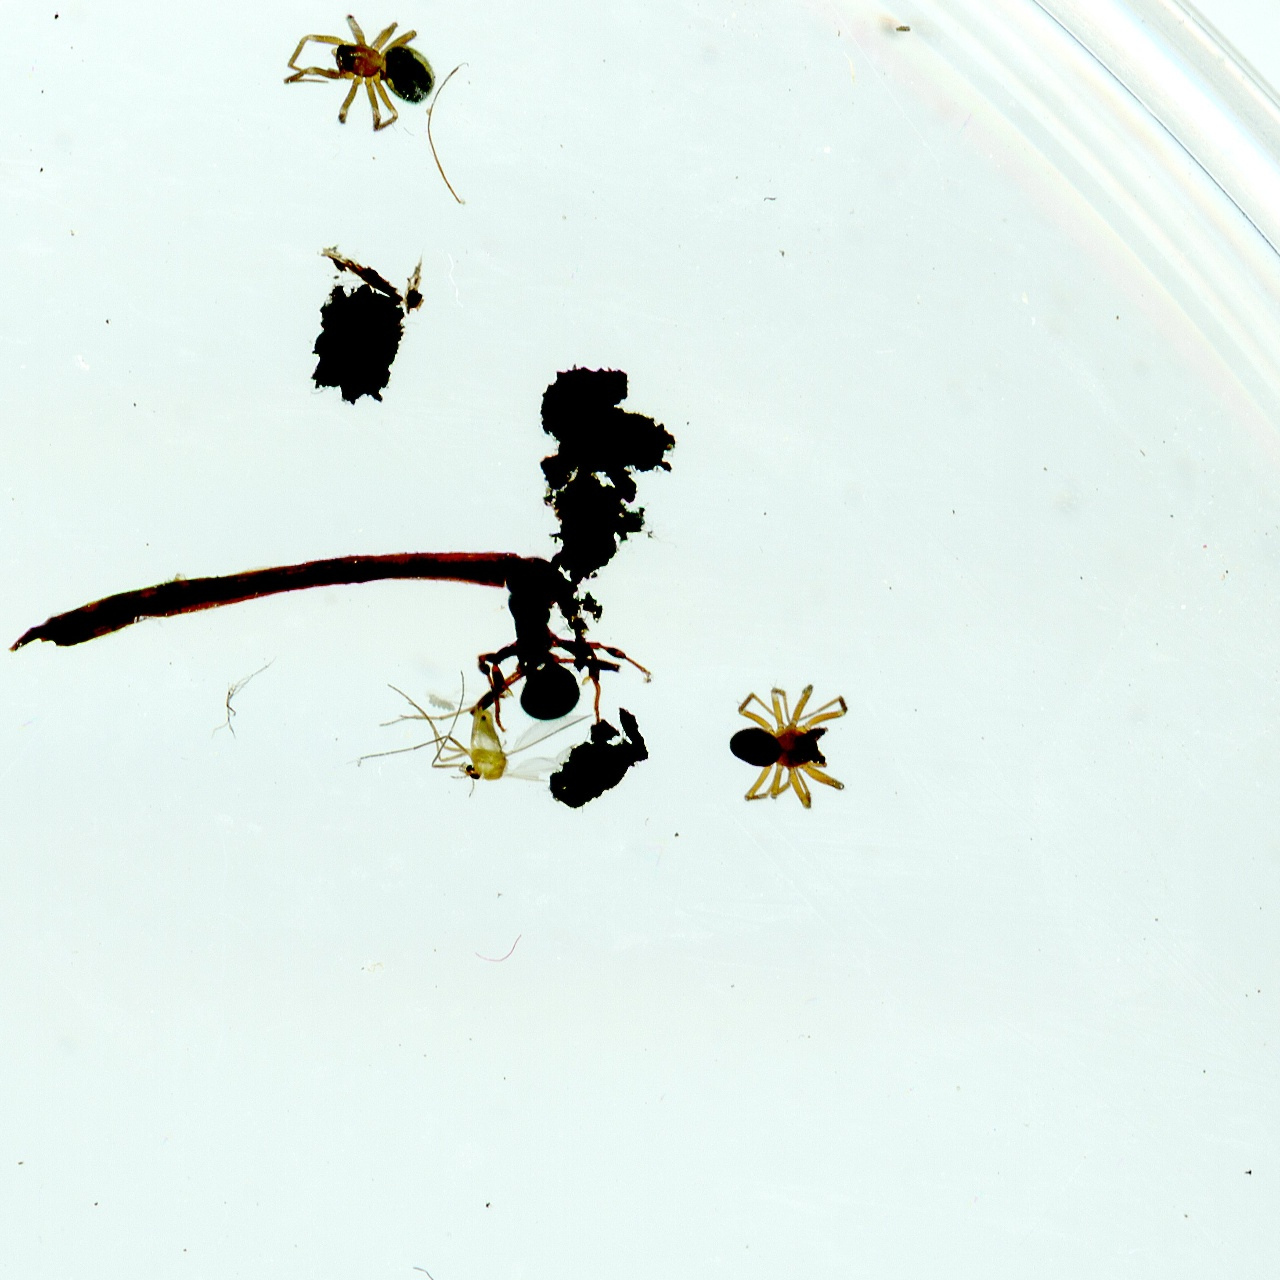arthropod: (346, 667, 601, 801), (468, 574, 656, 737), (277, 12, 442, 138), (722, 676, 853, 816)
